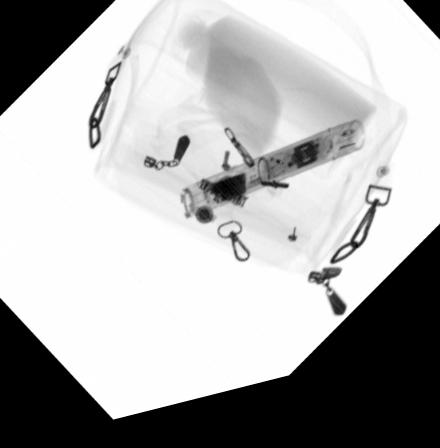Baton: (174, 135, 368, 230)
